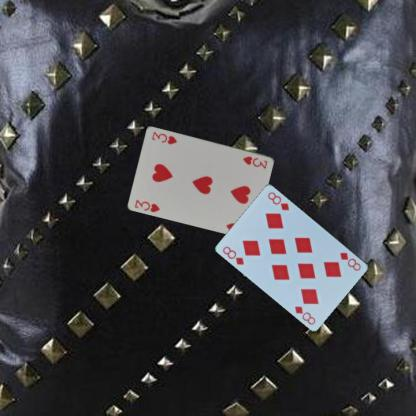3h: (240, 153, 269, 170), (132, 197, 162, 213)
8d: (220, 244, 246, 266), (338, 250, 362, 272)
